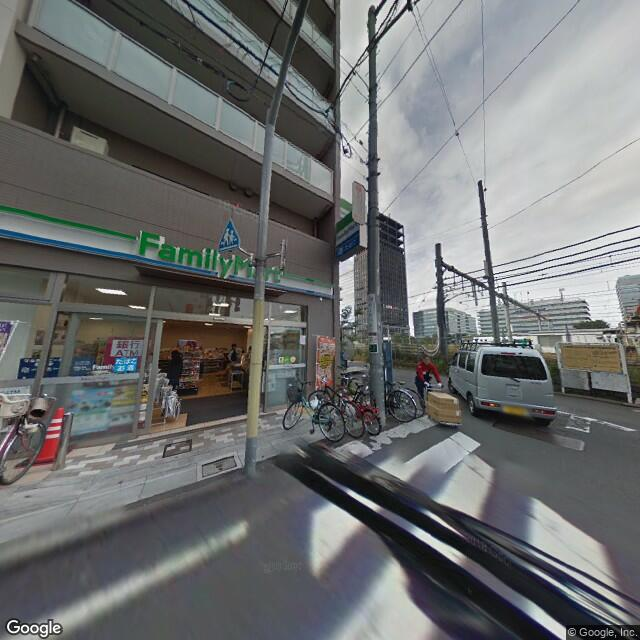family_mart: (2, 198, 332, 308), (130, 228, 284, 285), (333, 207, 364, 253)
